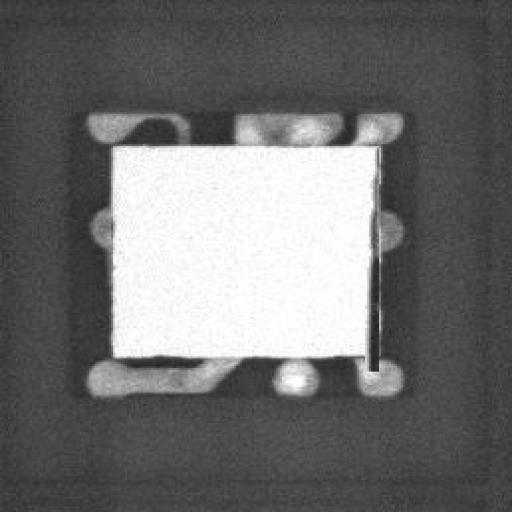DIE_BROKEN: (357, 228, 379, 374)
